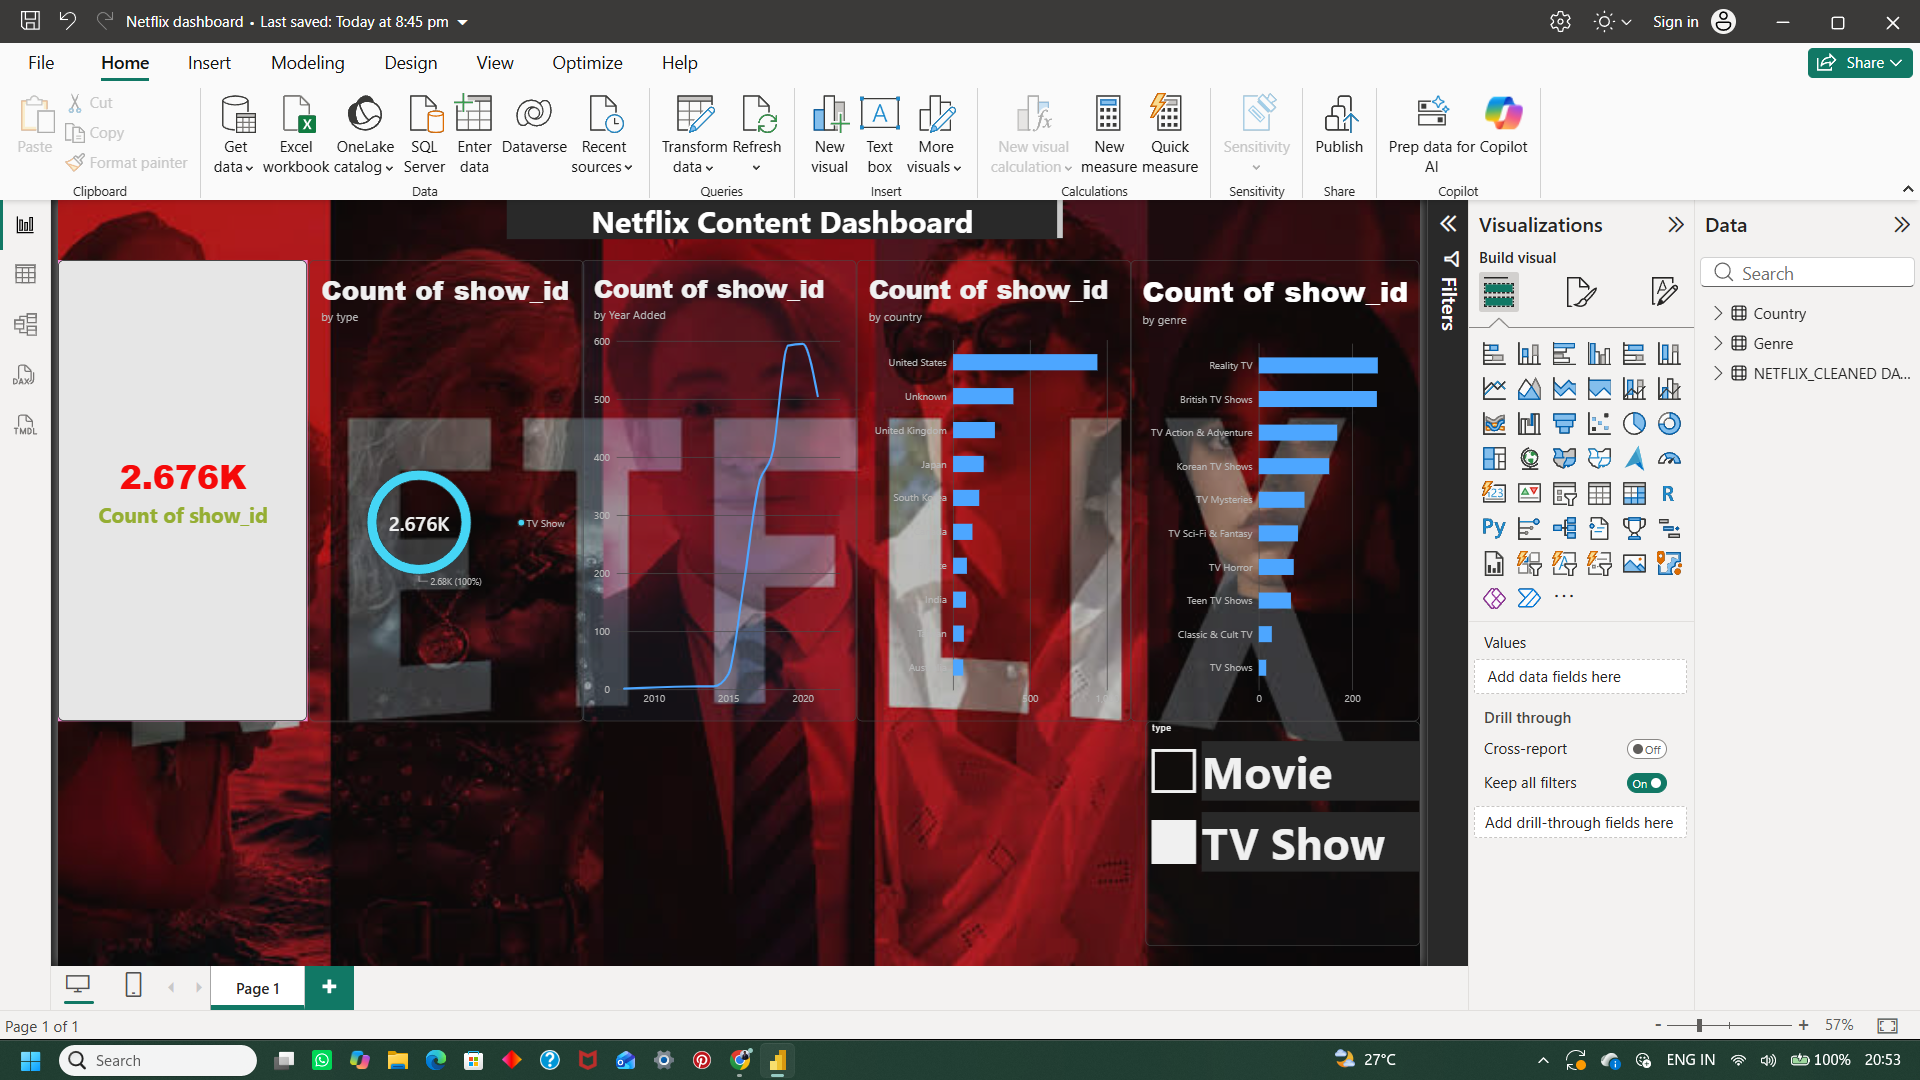

The dashboard page shown, as its layout file describes it:
{"tool":"powerbi","page":{"name":"Page 1","canvas":[1920,1080],"ordinal":0},"visuals":[{"type":"cardVisual","fields":{"Data":["Count(NETFLIX_CLEANED DATA.show_id)"]},"box":[0,84.6,352,650.4],"z":0},{"type":"donutChart","fields":{"Category":["NETFLIX_CLEANED DATA.type"],"Y":["Count(NETFLIX_CLEANED DATA.show_id)"]},"box":[355,84.4,387,650.4],"z":1},{"type":"lineChart","fields":{"Category":["NETFLIX_CLEANED DATA.Year Added"],"Y":["Count(NETFLIX_CLEANED DATA.show_id)"]},"box":[738.9,84.4,387,650.4],"z":2},{"type":"clusteredBarChart","fields":{"Category":["Country.country"],"Y":["Count(Country.show_id)"]},"box":[1125.9,84.4,387,650.4],"z":3},{"type":"clusteredBarChart","fields":{"Category":["Genre.genre"],"Y":["Count(Genre.show_id)"]},"box":[1512.9,84.4,407.5,650.4],"z":4},{"type":"slicer","fields":{"Values":["NETFLIX_CLEANED DATA.type"]},"box":[1533.5,734.8,387,317],"z":5},{"type":"textbox","box":[631.9,0,784.2,55.6],"z":6}]}

Visuals, with their boxes on the page's 1920x1080 design canvas (x1, y1, x2, y2). These are canvas units, not pixel positions in the 1920x1080 screenshot, which may show the page scaled, cropped or inside an application window:
cardVisual - Count(NETFLIX_CLEANED DATA.show_id): {"x1": 0, "y1": 85, "x2": 352, "y2": 735}
donutChart - NETFLIX_CLEANED DATA.type x Count(NETFLIX_CLEANED DATA.show_id): {"x1": 355, "y1": 84, "x2": 742, "y2": 735}
lineChart - NETFLIX_CLEANED DATA.Year Added x Count(NETFLIX_CLEANED DATA.show_id): {"x1": 739, "y1": 84, "x2": 1126, "y2": 735}
clusteredBarChart - Country.country x Count(Country.show_id): {"x1": 1126, "y1": 84, "x2": 1513, "y2": 735}
clusteredBarChart - Genre.genre x Count(Genre.show_id): {"x1": 1513, "y1": 84, "x2": 1920, "y2": 735}
slicer - NETFLIX_CLEANED DATA.type: {"x1": 1534, "y1": 735, "x2": 1920, "y2": 1052}
textbox: {"x1": 632, "y1": 0, "x2": 1416, "y2": 56}
